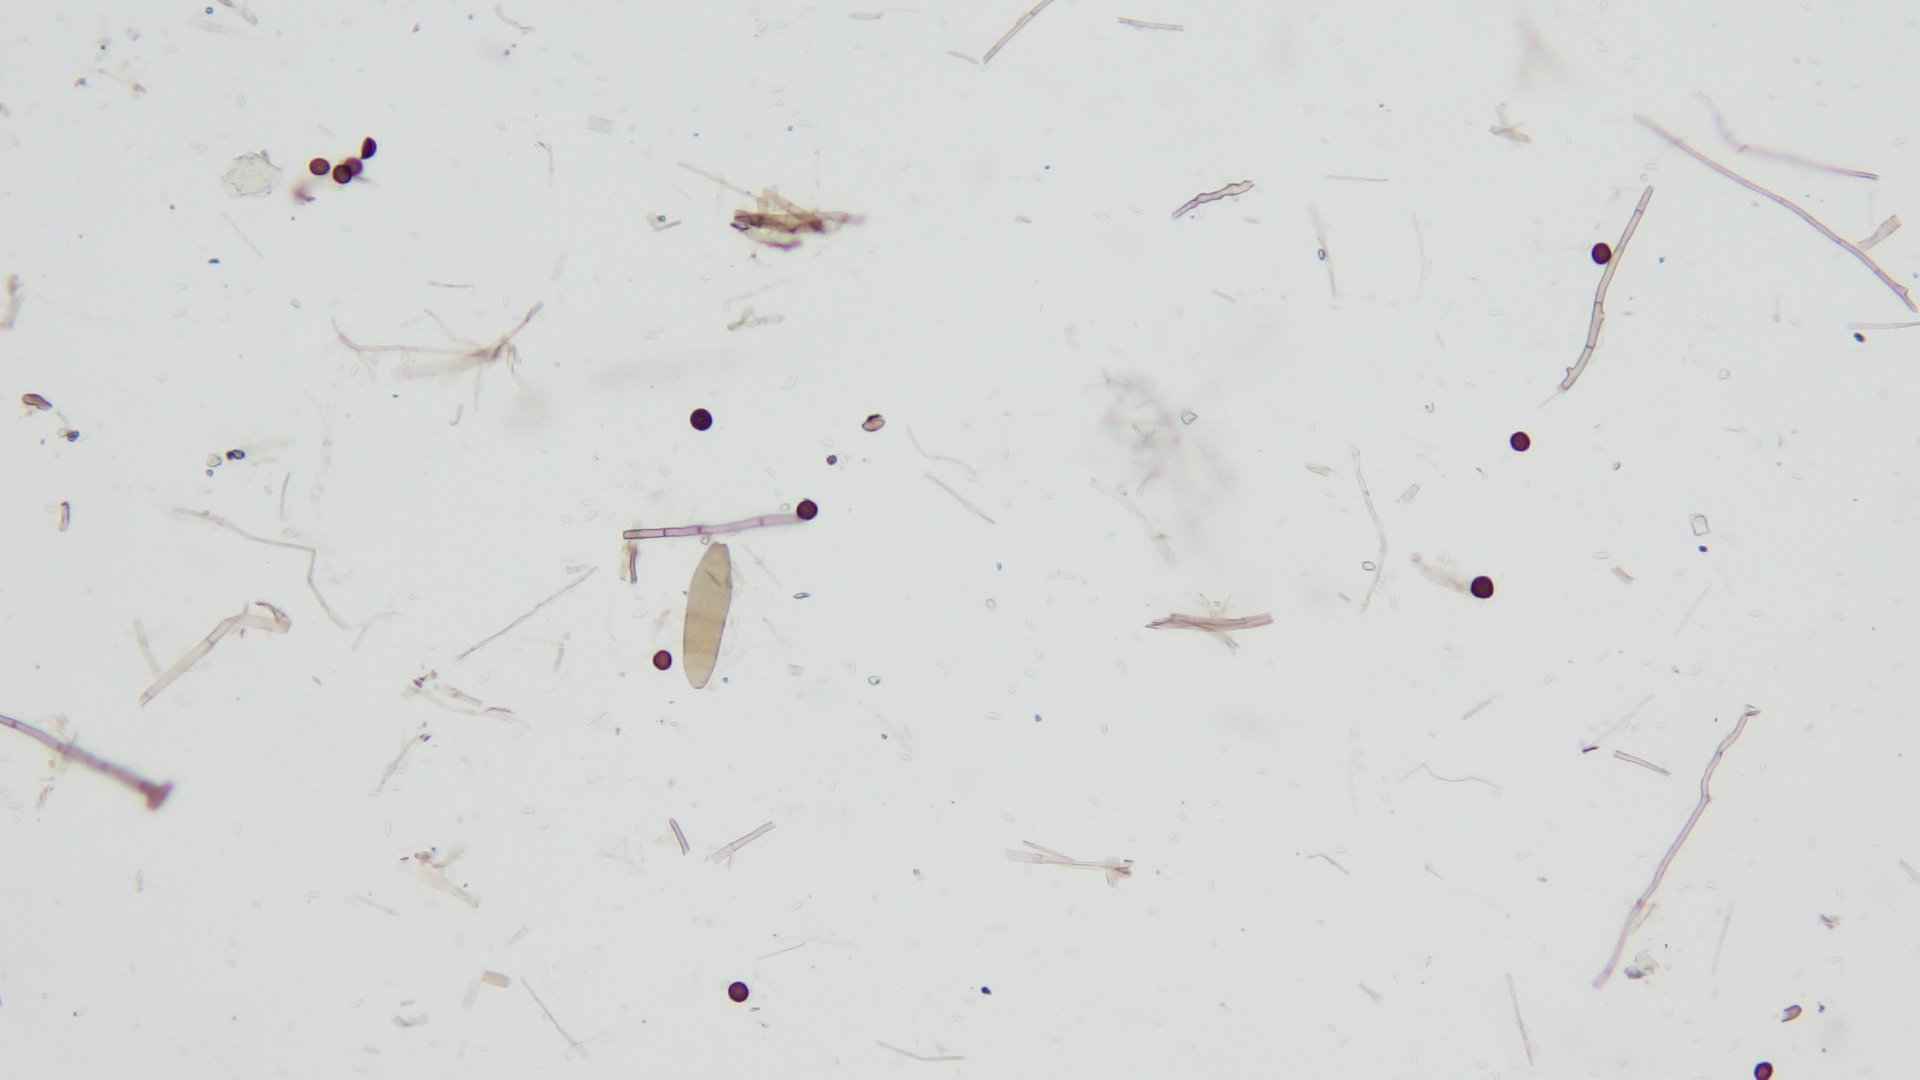dbb_spore: (684, 543, 732, 688)
shs_spore: (690, 407, 713, 430), (795, 498, 819, 521), (1469, 576, 1494, 597), (653, 649, 673, 673), (1511, 431, 1532, 452), (1593, 241, 1611, 265), (334, 164, 351, 185), (345, 157, 364, 175), (731, 982, 749, 1001), (309, 158, 328, 174)
